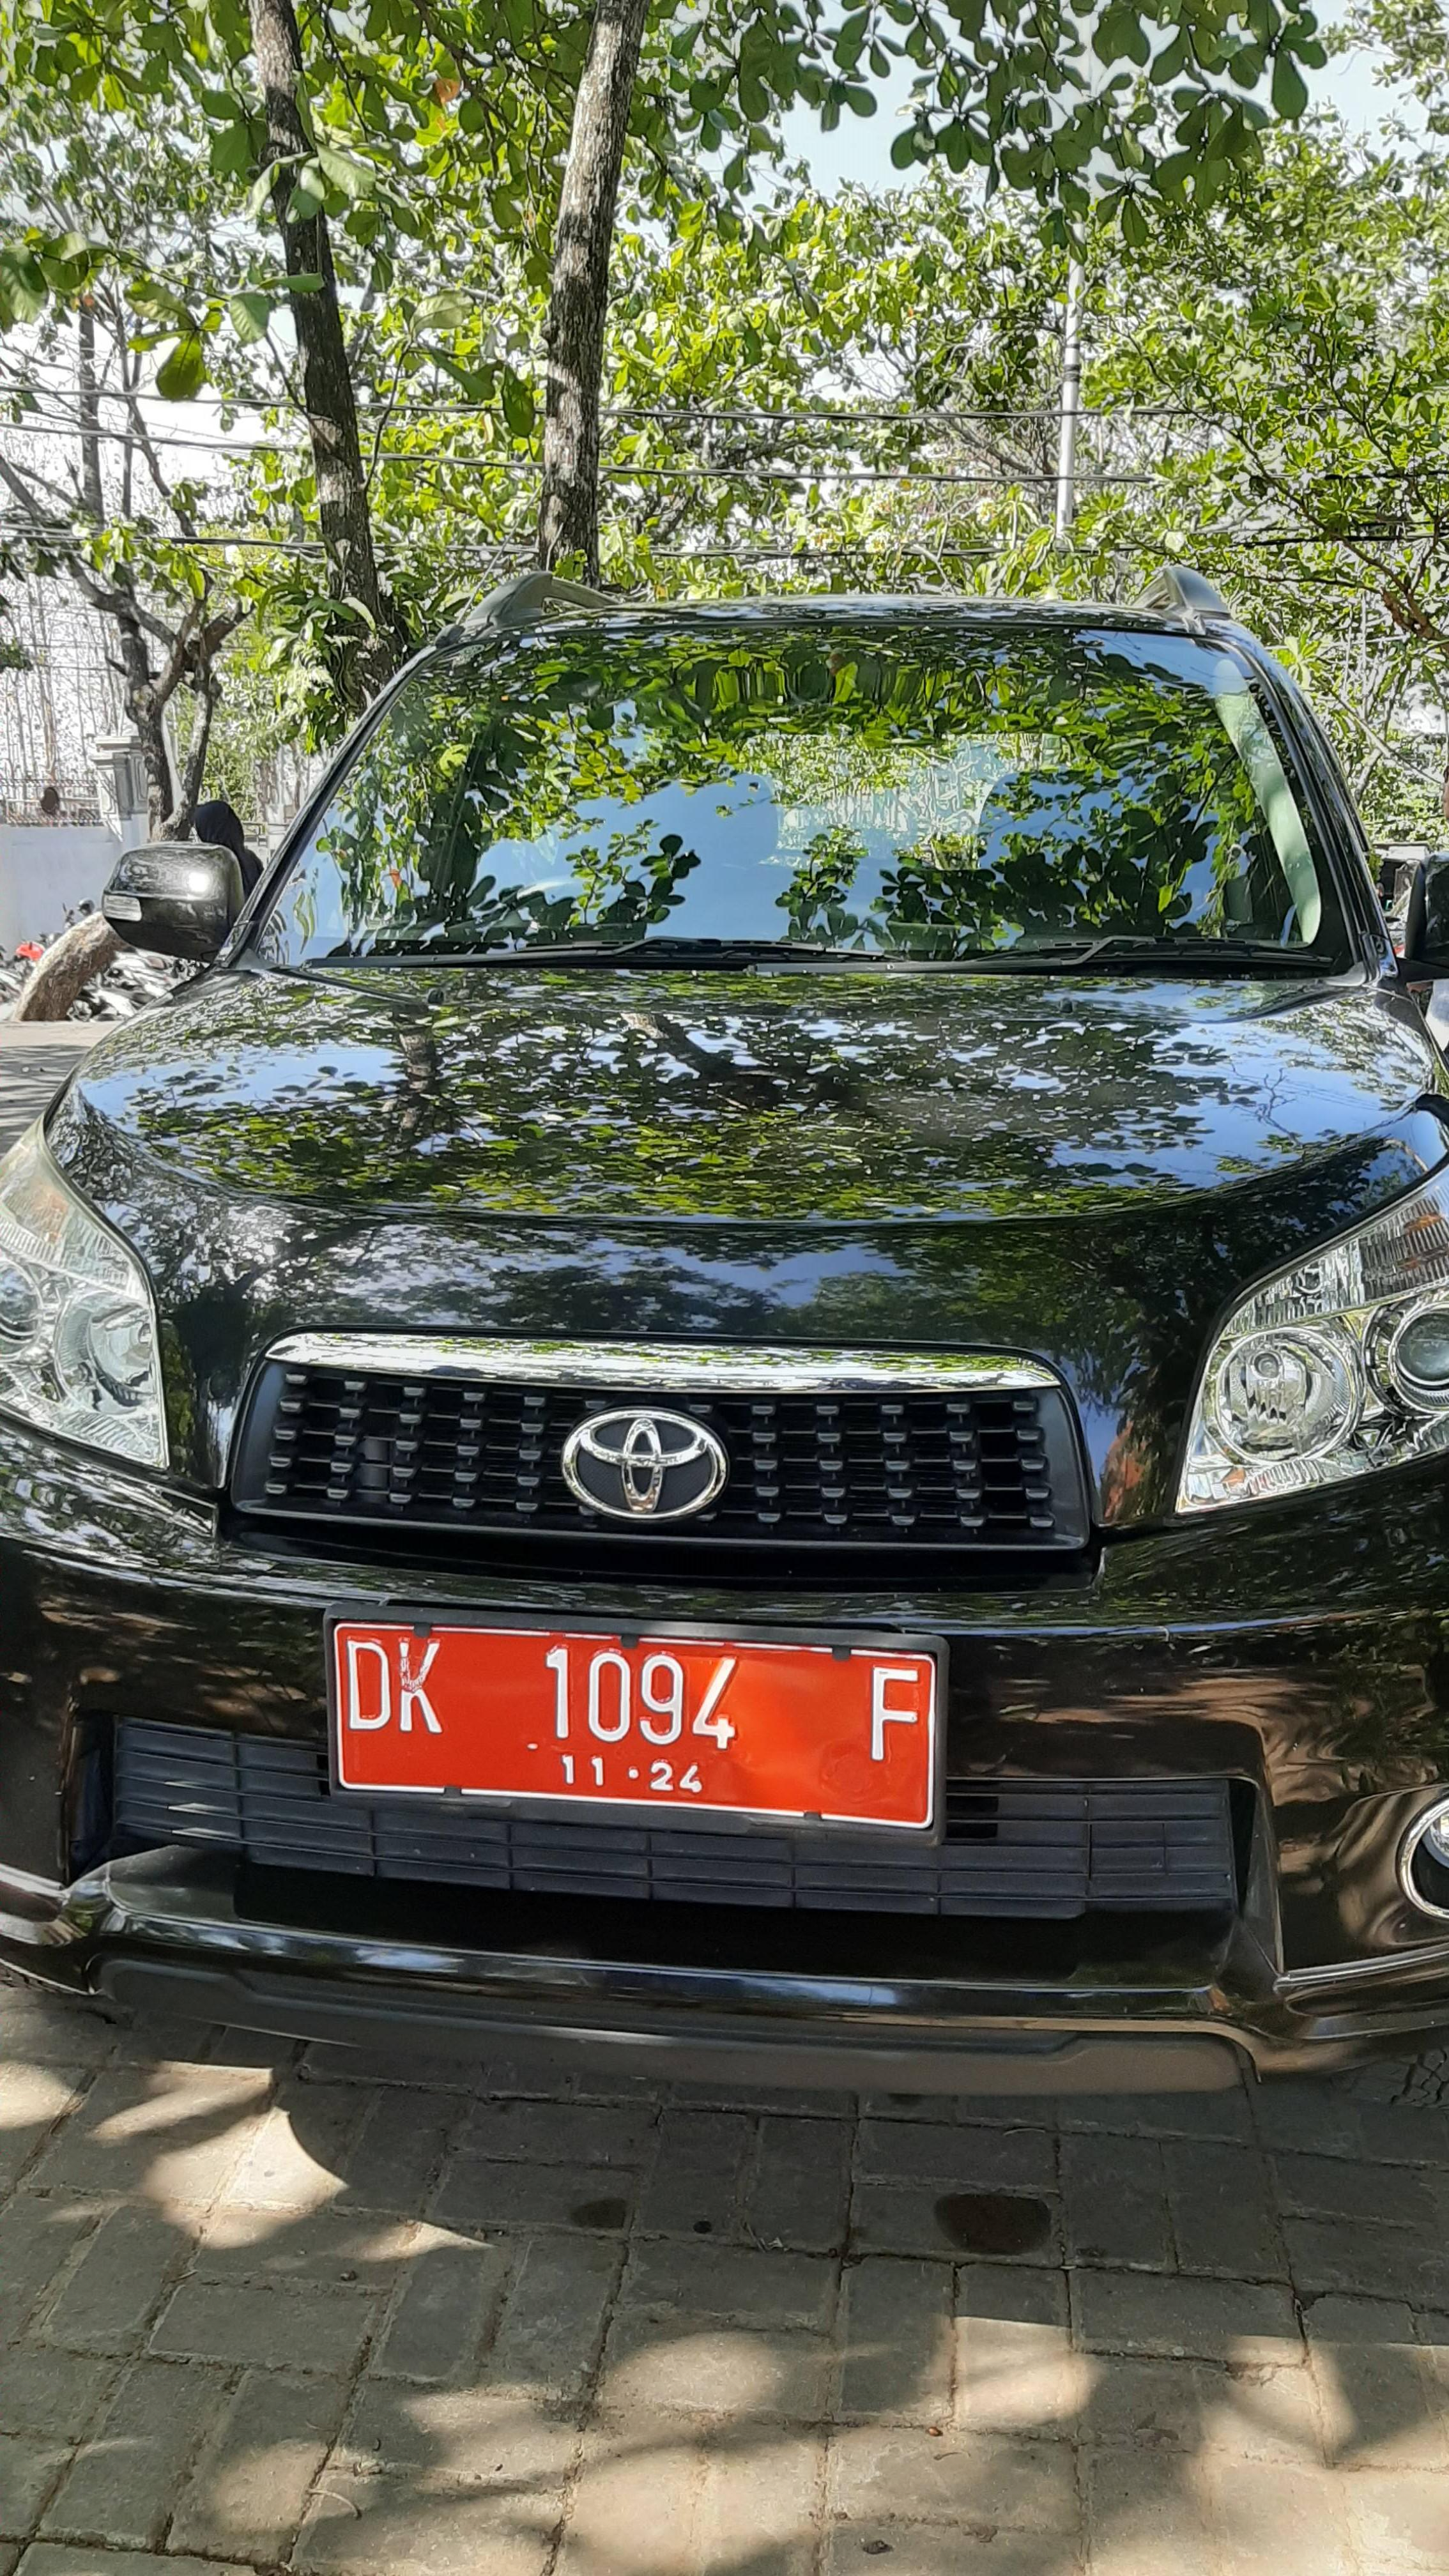plate: (328, 1607, 939, 1833)
